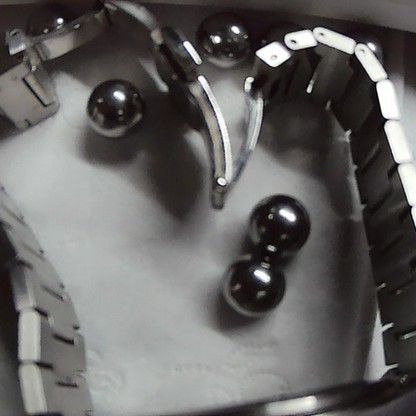ironball: (235, 190, 316, 258), (79, 76, 146, 140), (187, 7, 255, 66), (223, 254, 280, 316), (22, 7, 73, 44)
